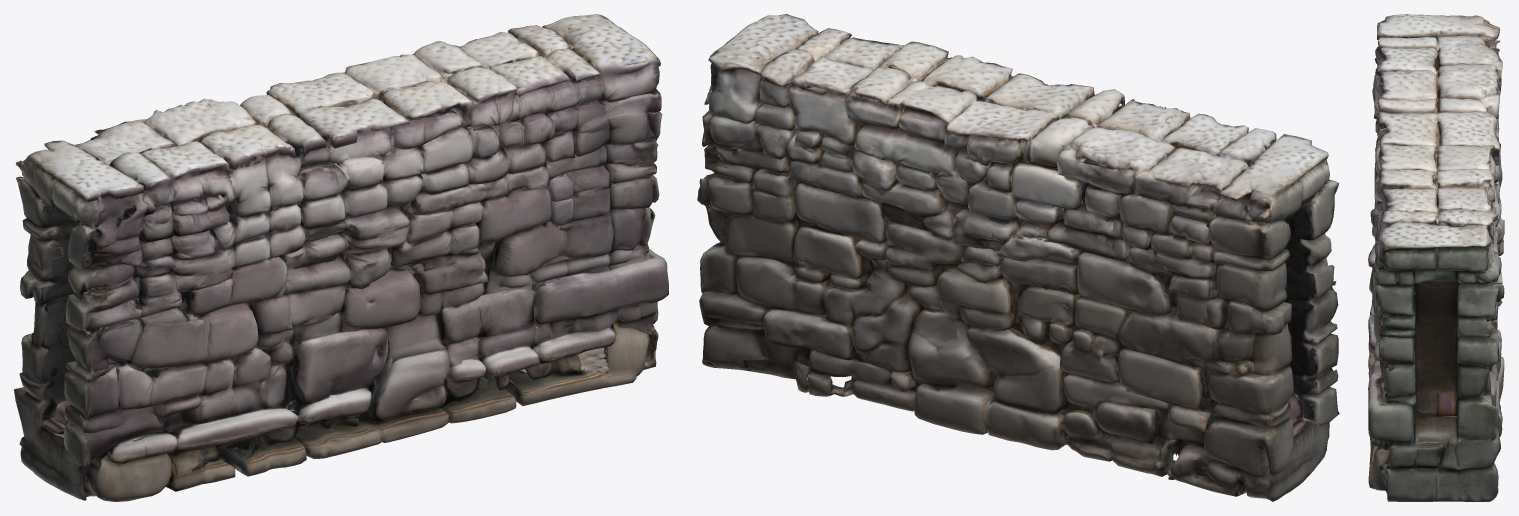
Rendered from o90_tas_sur_duvari.glb.
The picture shows the model from 3 angles, left to right: view 1: azimuth 30°, elevation 25°; view 2: azimuth 150°, elevation 25°; view 3: azimuth 270°, elevation 25°; orthographic projection. The views are drawn at different scales.
Size of the model in its own units: 2 by 1.05 by 0.4909.
1 material, 1 textured.
